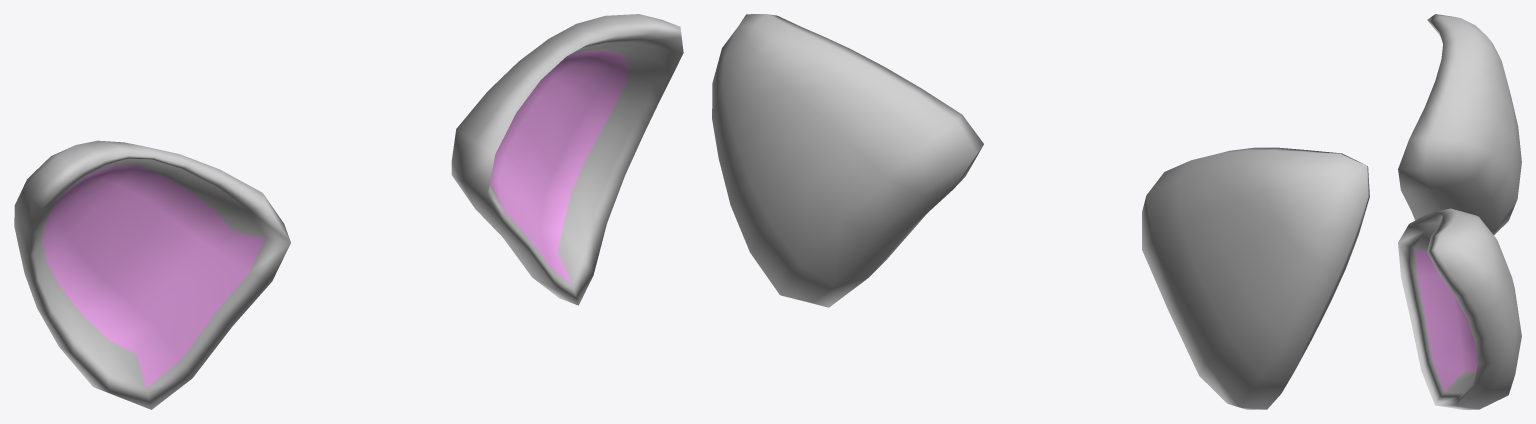
Rendered from pointedEars.obj.
3 views of the same model, side by side, from view 1: azimuth 30°, elevation 25°; view 2: azimuth 150°, elevation 25°; view 3: azimuth 270°, elevation 25° (orthographic). The views are drawn at different scales.
Visible parts, largest first — view 1: Pointed_Ears; view 2: Pointed_Ears; view 3: Pointed_Ears.
Part boxes in pixels (bbox=[...]): Pointed_Ears: bbox=[14, 14, 683, 409]; Pointed_Ears: bbox=[712, 14, 1369, 409]; Pointed_Ears: bbox=[1398, 14, 1521, 409].
Bounding box in the file's own units: 0.7619 × 0.3009 × 0.1646.
